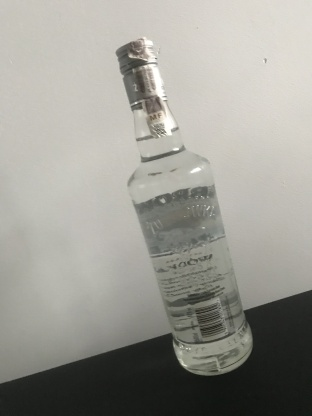nakretka: (113, 34, 168, 112)
